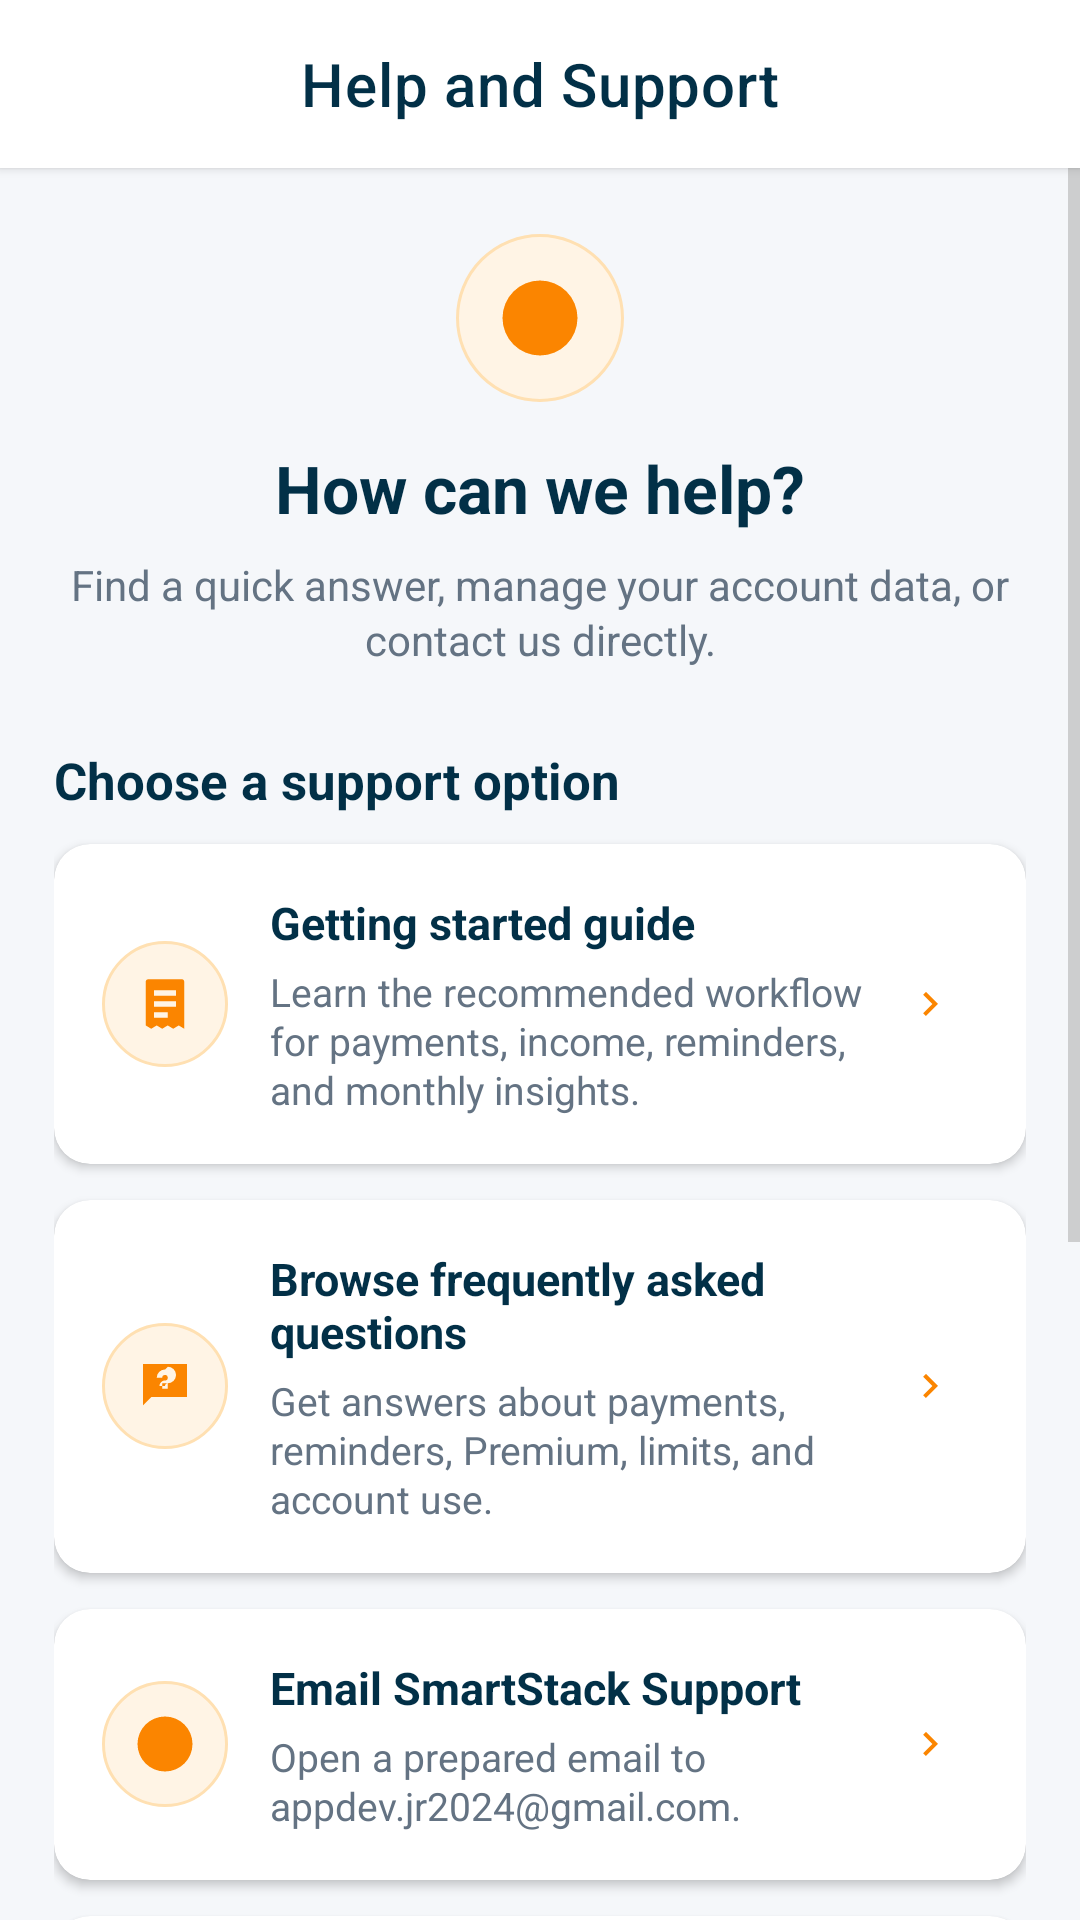

Icon click points for this 1080×1920 phone screenshot, format (x=x, y=y):
faq: (x=165, y=1386)
